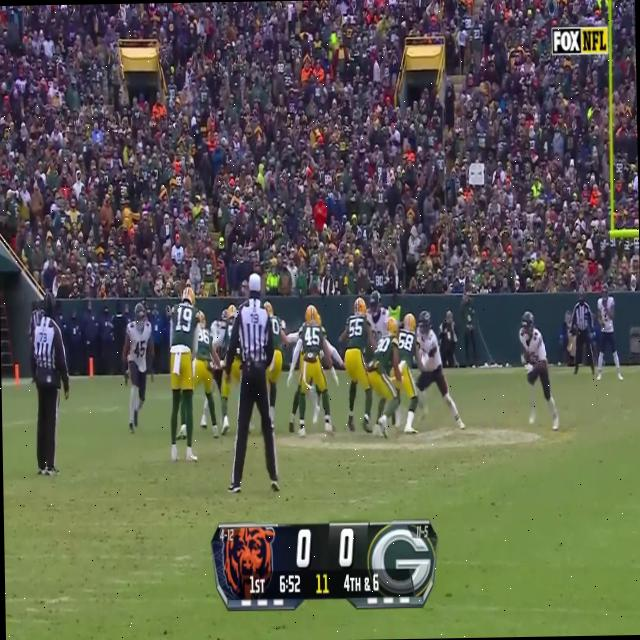Player: (166, 286, 202, 461), (294, 304, 331, 434), (120, 302, 156, 432), (368, 314, 404, 438), (187, 308, 220, 439), (517, 310, 548, 432), (413, 310, 444, 420), (346, 297, 371, 430), (220, 306, 245, 436), (398, 310, 419, 436), (595, 284, 616, 381)
Referee: (224, 272, 280, 492), (30, 293, 70, 477), (569, 291, 595, 378)
